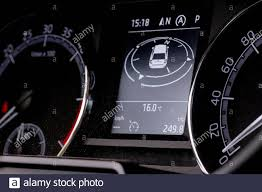Digital_Meter: (115, 103, 186, 135)
